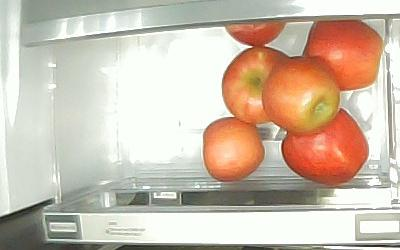apple: (281, 108, 369, 184), (262, 56, 340, 134), (301, 20, 383, 90), (221, 46, 290, 123), (201, 117, 265, 181), (222, 19, 288, 48)
